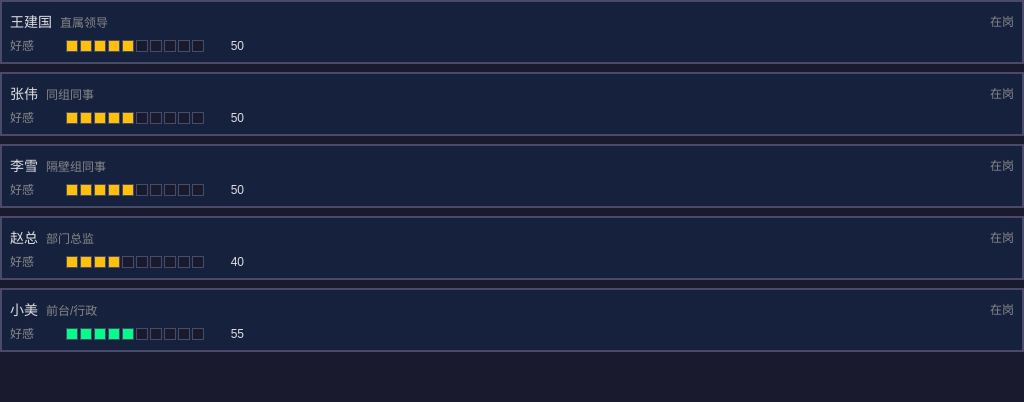
RelationshipsTab › expands NPC detail on click and hides hiddenGoal when favor < 60
The width and height of the screenshot is (1024, 402).
Note: 王建国 has favor 50 → hiddenGoal should be hidden
Step 1. Click the text "王建国" → (31, 22), box [10,14,52,30]
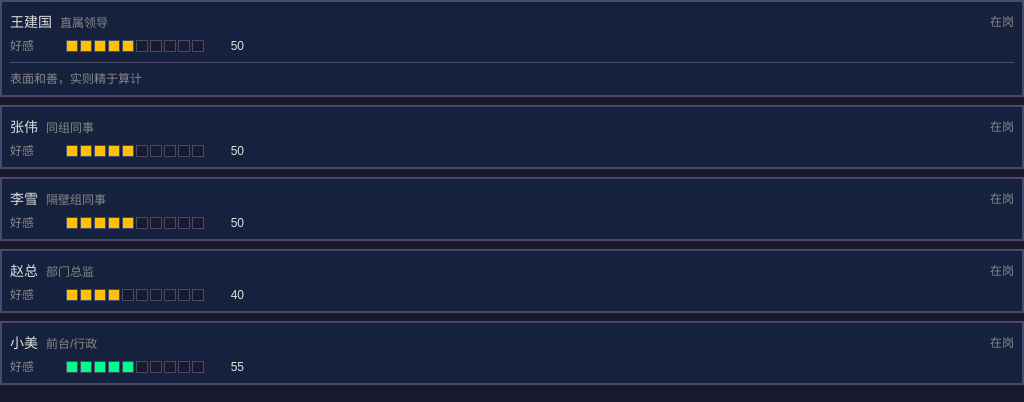
Check: the text "表面和善，实则精于算计" is shown, box [10,72,142,86]
